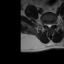CCS_stenosis: (48, 22, 50, 29)
LFS_normal: (52, 21, 54, 27)
LLS_normal: (50, 22, 52, 28)
RFS_normal: (45, 21, 47, 27)
RLS_normal: (47, 22, 48, 28)
